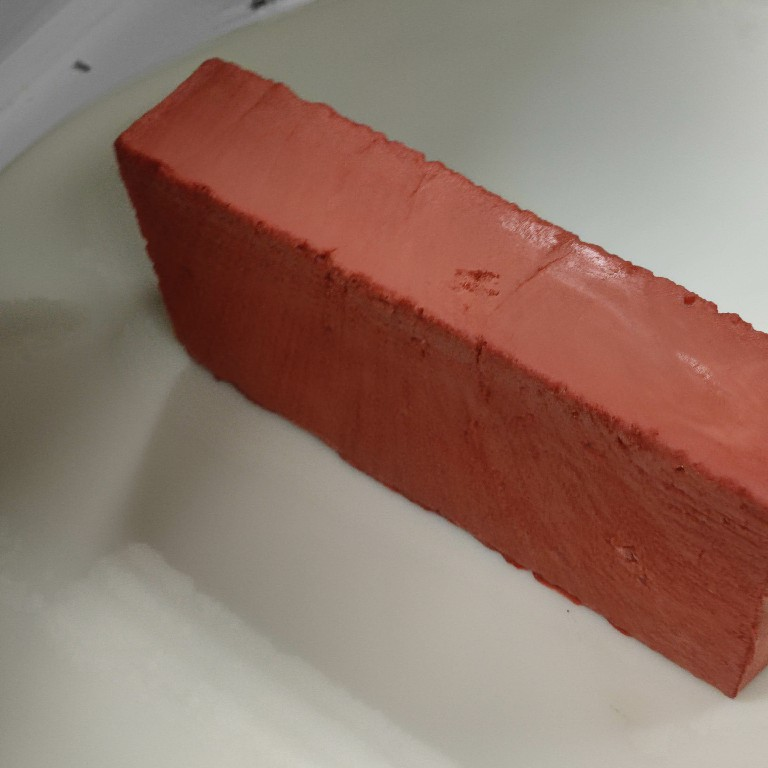brick: (108, 55, 768, 703)
